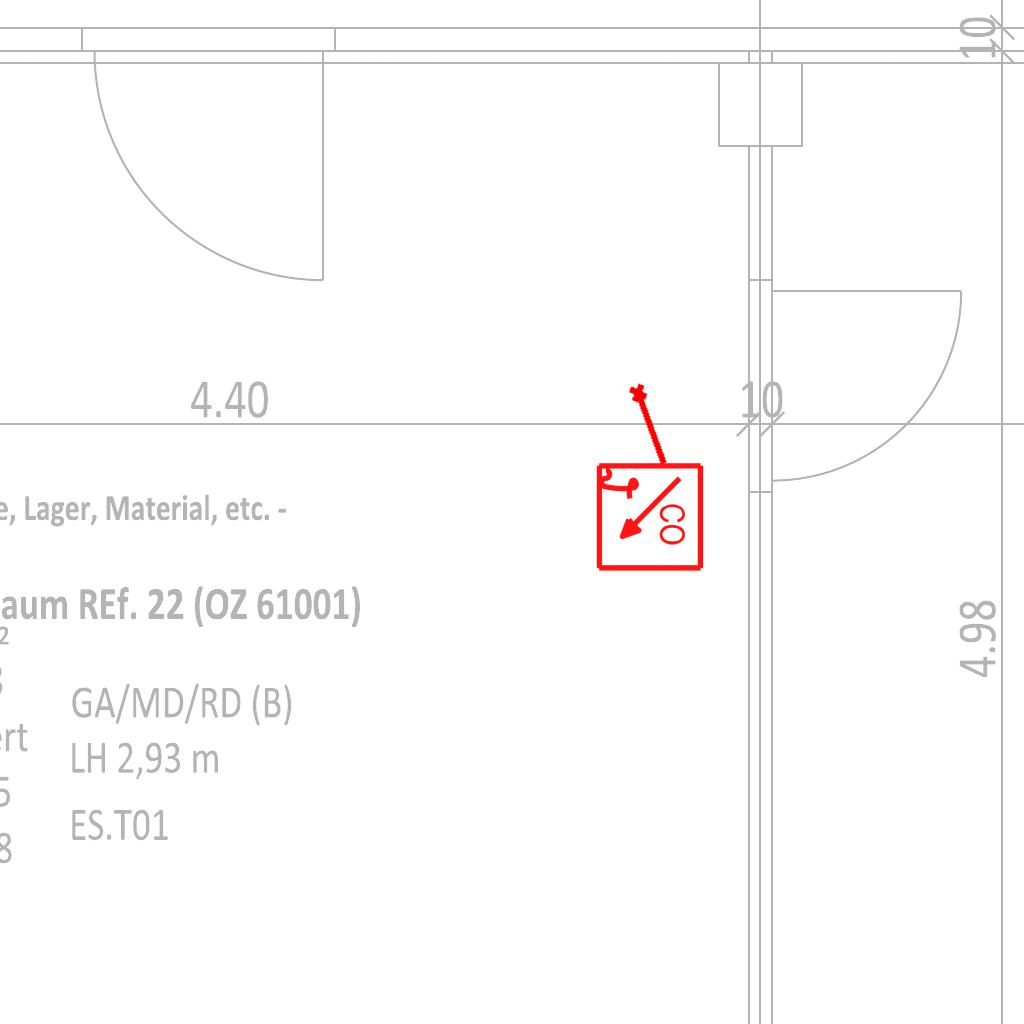ASR_Ansaugoeffnung: (625, 379, 677, 470)
ROA_Rauchmelder_optisch_mit_Signalgeber_(Sockelsirene): (592, 461, 705, 574)
